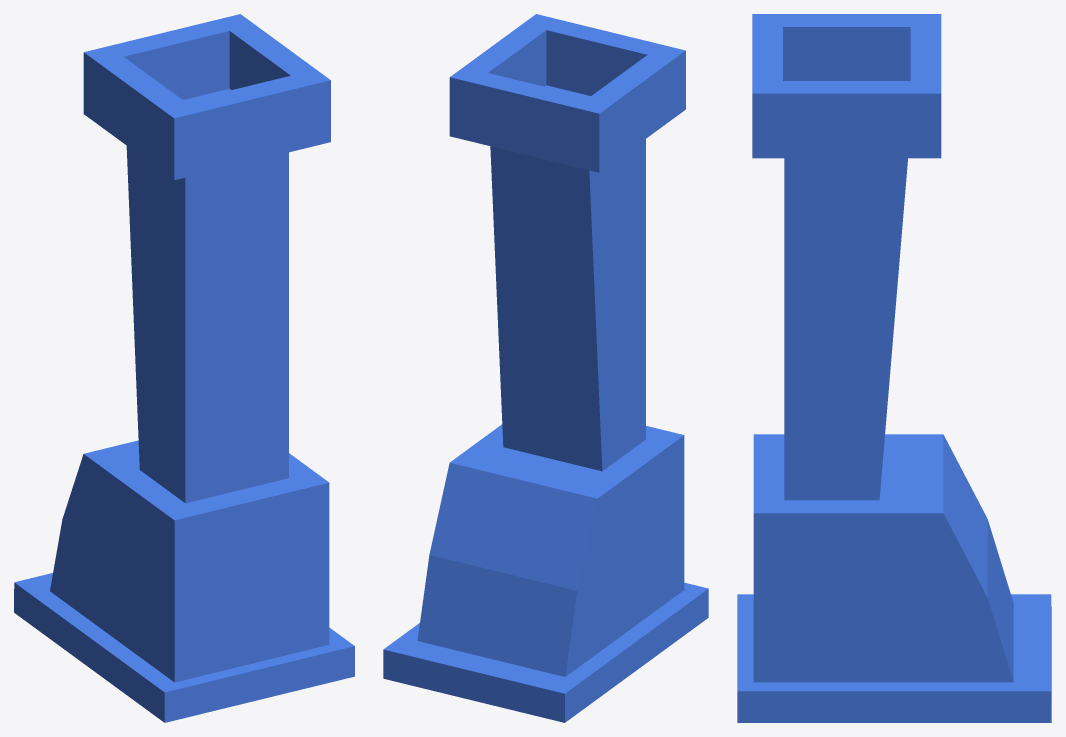
File: Chimney.fbx
3 views of the same model, side by side, from view 1: azimuth 30°, elevation 25°; view 2: azimuth 150°, elevation 25°; view 3: azimuth 270°, elevation 25° (orthographic). The views are drawn at different scales.
Visible parts, largest first — view 1: Chimney; view 2: Chimney; view 3: Chimney.
Boxes of the visible parts, x1,y1,x2,y2 form: Chimney: [14, 14, 354, 722]; Chimney: [383, 14, 708, 722]; Chimney: [737, 14, 1051, 722].
Bounding box in the file's own units: 111 × 333 × 153.
